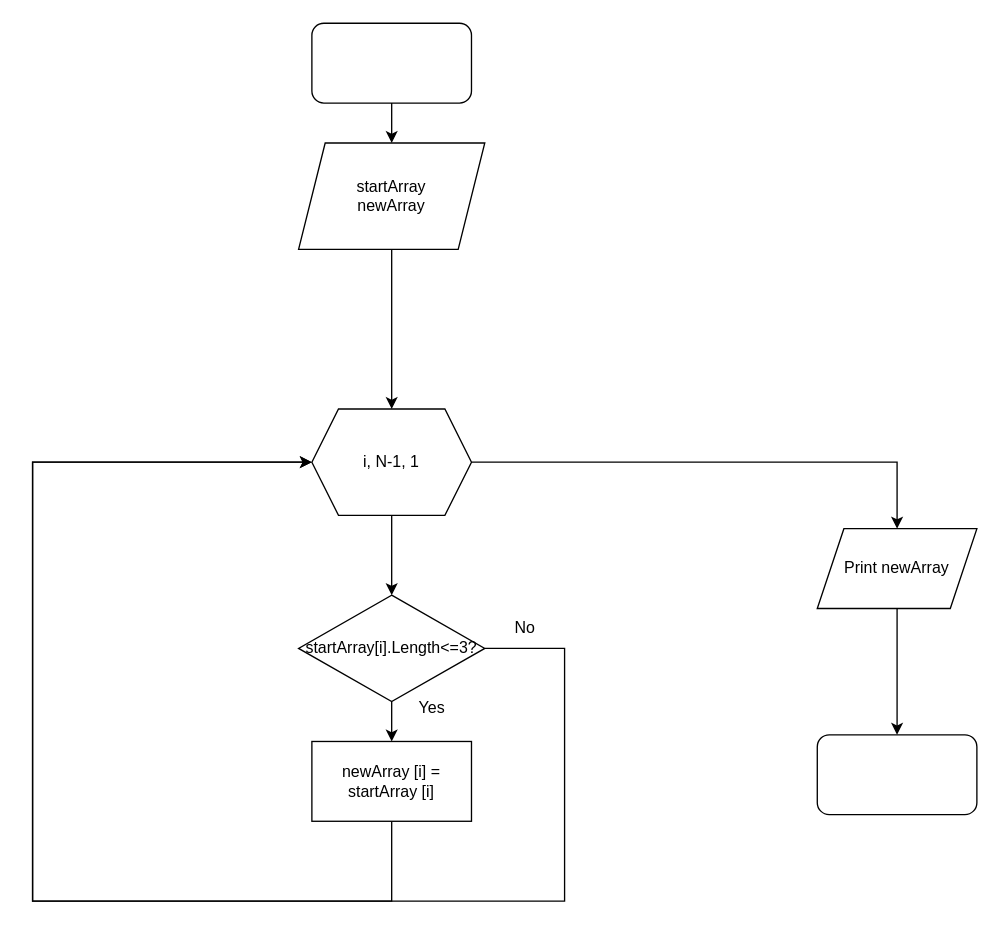
Some shapes in this 1000 by 935 pixel diagram are drawn without their labels. The centre of each missing label's shape, as x and y in pixels:
"FINISH" goes at (x=896, y=774).
"START" goes at (x=391, y=62).
